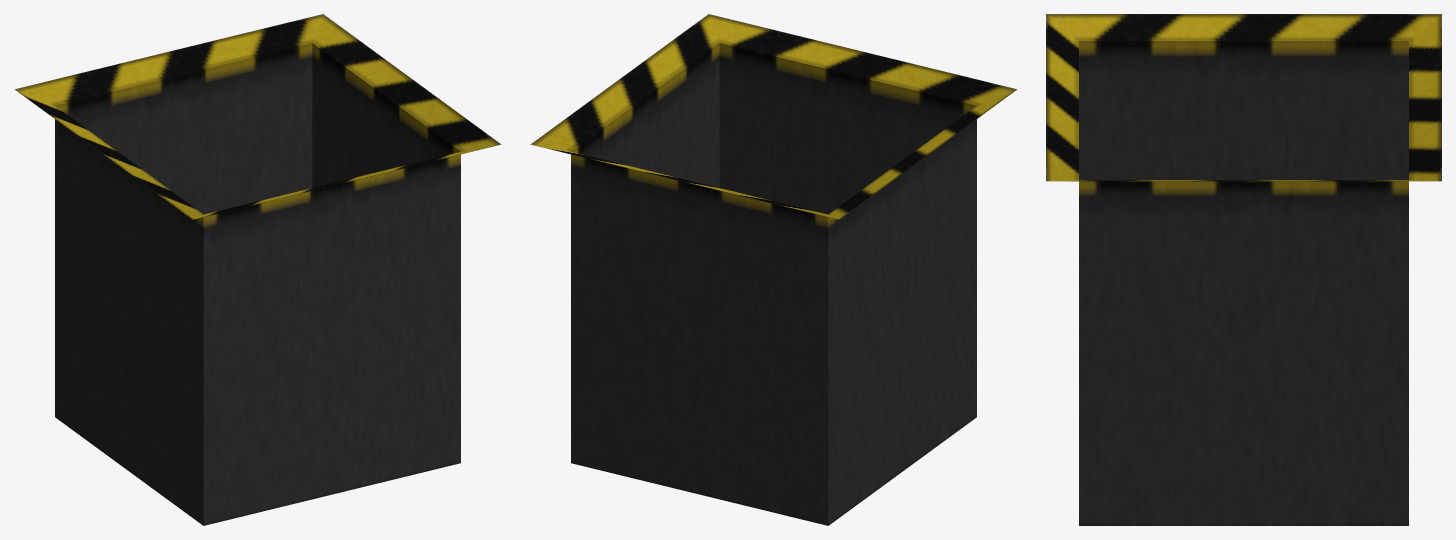
File: baseouterwalls.fbx
3 views of the same model, side by side, from view 1: azimuth 30°, elevation 25°; view 2: azimuth 150°, elevation 25°; view 3: azimuth 270°, elevation 25° (orthographic). The views are drawn at different scales.
Visible parts, largest first — view 1: pBaseFrame; view 2: pBaseFrame; view 3: pBaseFrame.
Boxes of the visible parts, bbox=[...] form: pBaseFrame: bbox=[15, 14, 501, 525]; pBaseFrame: bbox=[530, 14, 1016, 525]; pBaseFrame: bbox=[1046, 14, 1441, 525].
Bounding box in the file's own units: 6 × 6 × 6.
1 material, 1 textured.
